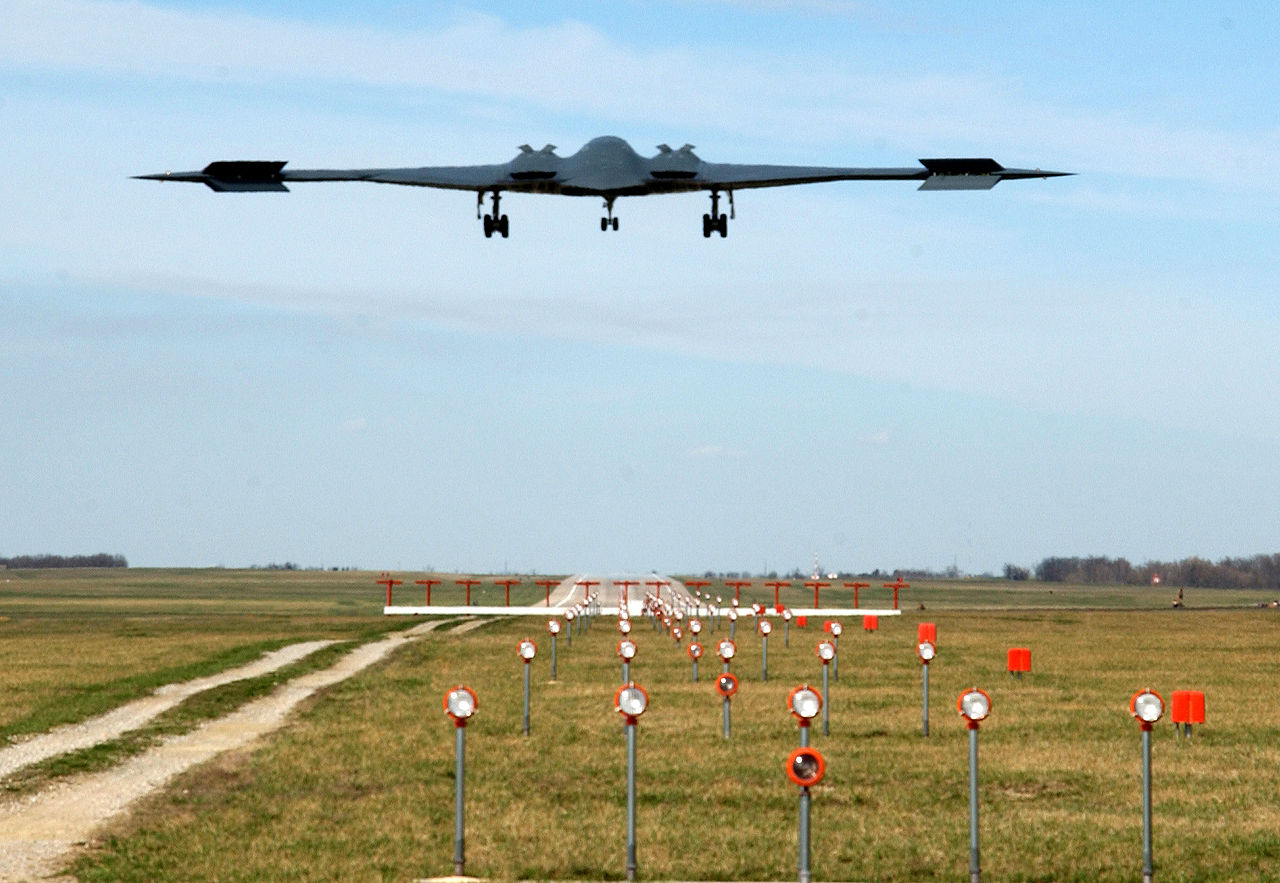B2: (127, 135, 1083, 240)
